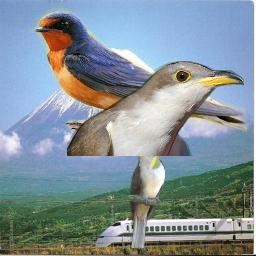Cuckoo: (67, 61, 244, 156), (128, 146, 165, 248)
Swallow: (29, 7, 247, 139)
